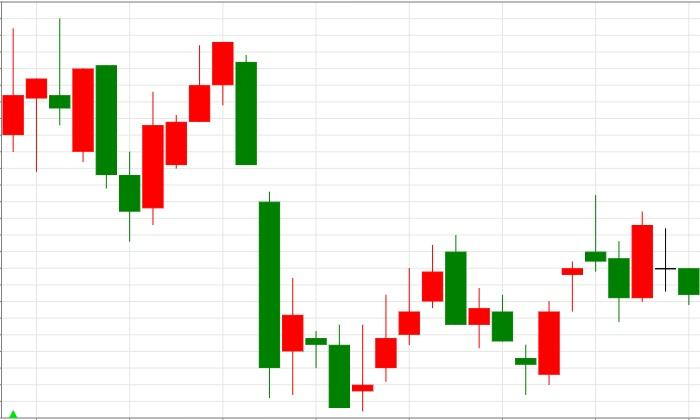bearish_engulfing_fall: (328, 235, 467, 411)
three_white_soldiers_rise: (212, 41, 421, 412)
